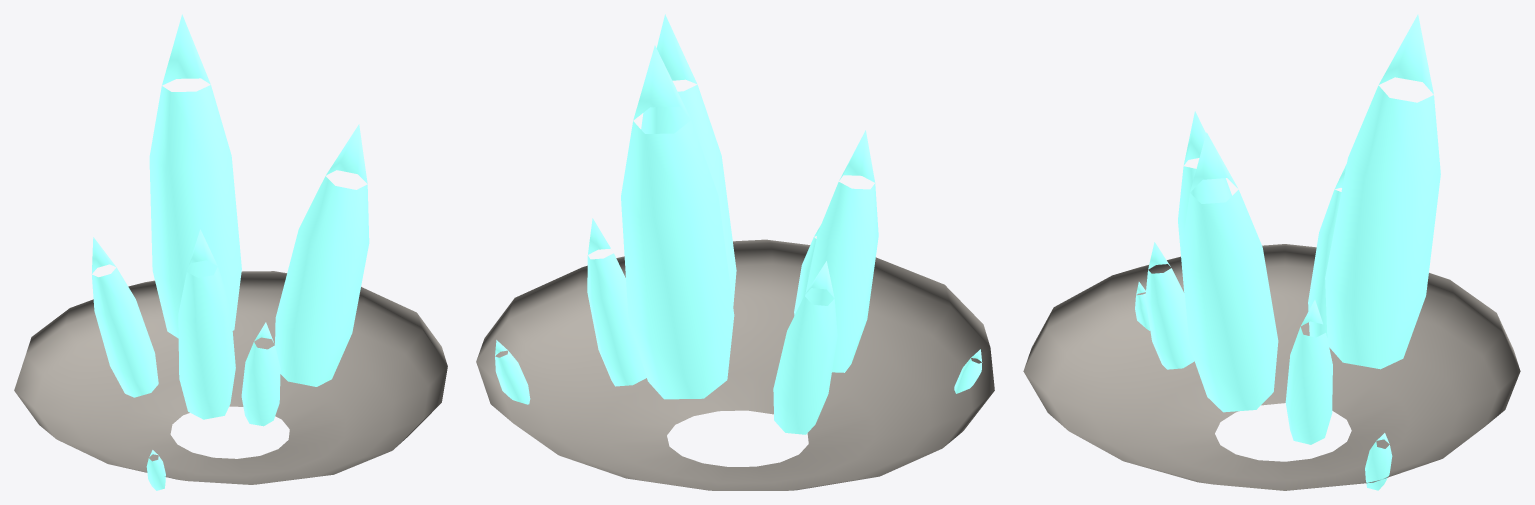
The model's file is SM_Node_Astraite.glb.
3 views of the same model, side by side, from view 1: azimuth 30°, elevation 25°; view 2: azimuth 150°, elevation 25°; view 3: azimuth 270°, elevation 25° (orthographic). The views are drawn at different scales.
Visible parts, largest first — view 1: SM_Node_Astraite; view 2: SM_Node_Astraite; view 3: SM_Node_Astraite.
Boxes of the visible parts, x1,y1,x2,y2 form: SM_Node_Astraite: (14,14,447,490); SM_Node_Astraite: (476,14,994,490); SM_Node_Astraite: (1023,14,1520,490).
Size of the model in its own units: 1.13 by 1.06 by 1.11.
